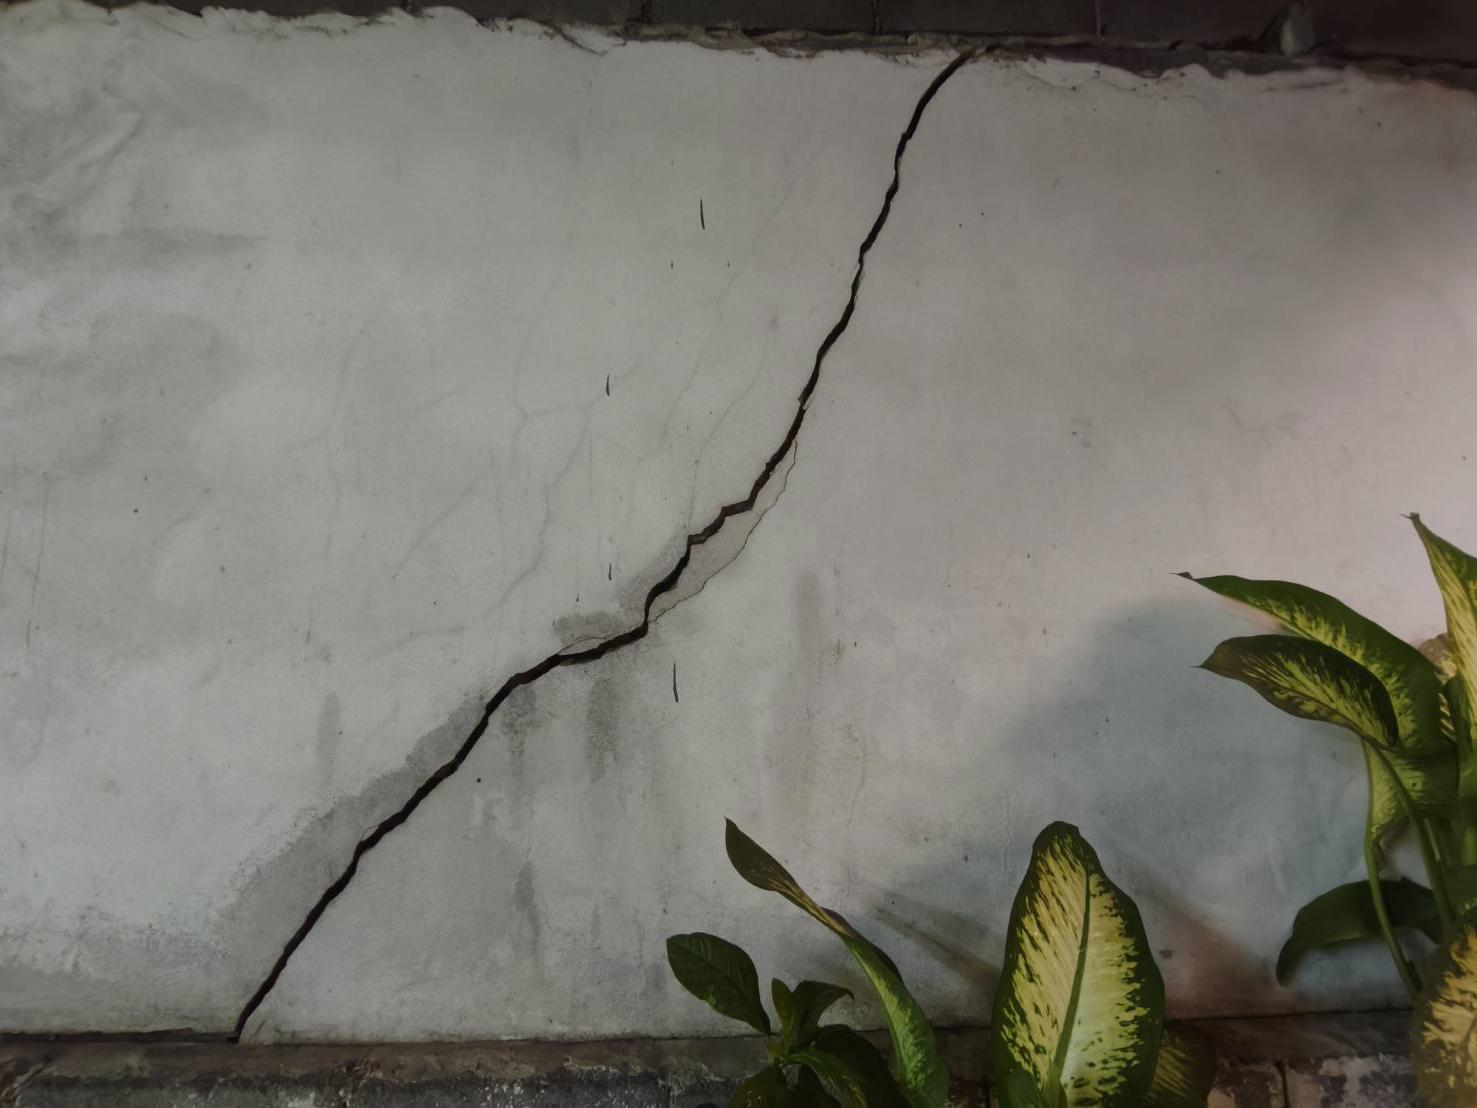High: (220, 31, 987, 1043)
